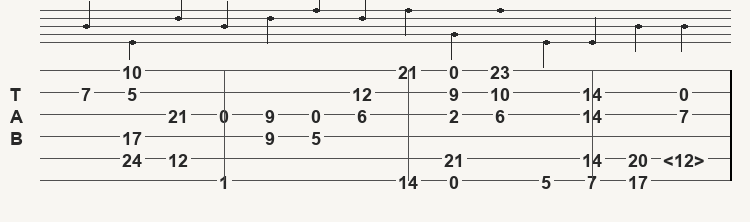0: (219, 106, 233, 123), (311, 106, 325, 123), (449, 172, 463, 189), (449, 62, 463, 79), (679, 84, 693, 101)
1: (219, 172, 233, 189)
10: (122, 62, 146, 79), (490, 84, 514, 101)
12: (168, 150, 192, 167), (352, 84, 376, 101)
14: (398, 172, 422, 189), (582, 106, 606, 123), (582, 84, 606, 101), (582, 150, 606, 167)
17: (122, 128, 146, 145), (628, 172, 652, 189)
2: (449, 106, 463, 123)
20: (628, 150, 652, 167)
21: (168, 106, 192, 123), (398, 62, 422, 79), (444, 150, 468, 167)
23: (490, 62, 514, 79)
24: (122, 150, 146, 167)
5: (127, 84, 141, 101), (311, 128, 325, 145), (541, 172, 555, 189)
6: (357, 106, 371, 123), (495, 106, 509, 123)
7: (81, 84, 95, 101), (587, 172, 601, 189), (679, 106, 693, 123)
9: (265, 128, 279, 145), (265, 106, 279, 123), (449, 84, 463, 101)
harmonic: (663, 150, 709, 167)
